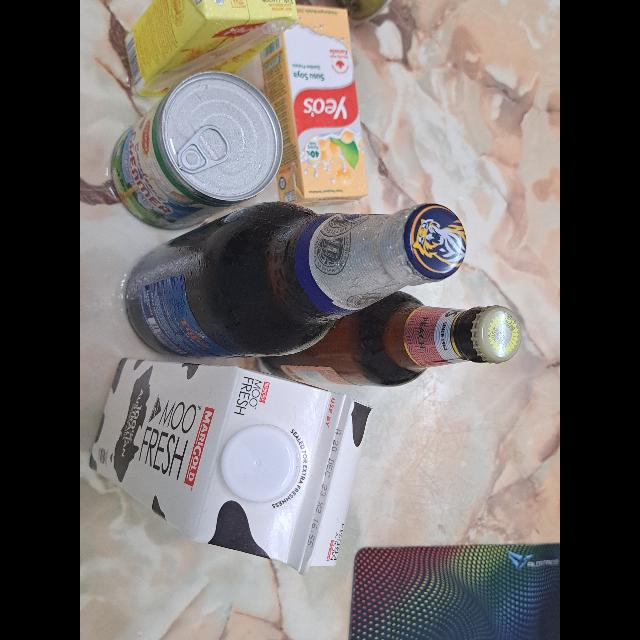aba de lata: (172, 120, 232, 178)
caixinha: (90, 348, 368, 574), (255, 0, 367, 202), (120, 0, 300, 90)
garrafa de vidro: (132, 198, 462, 364), (266, 304, 524, 392)
lata: (114, 70, 280, 222)
tampa plástica: (214, 421, 306, 504)
